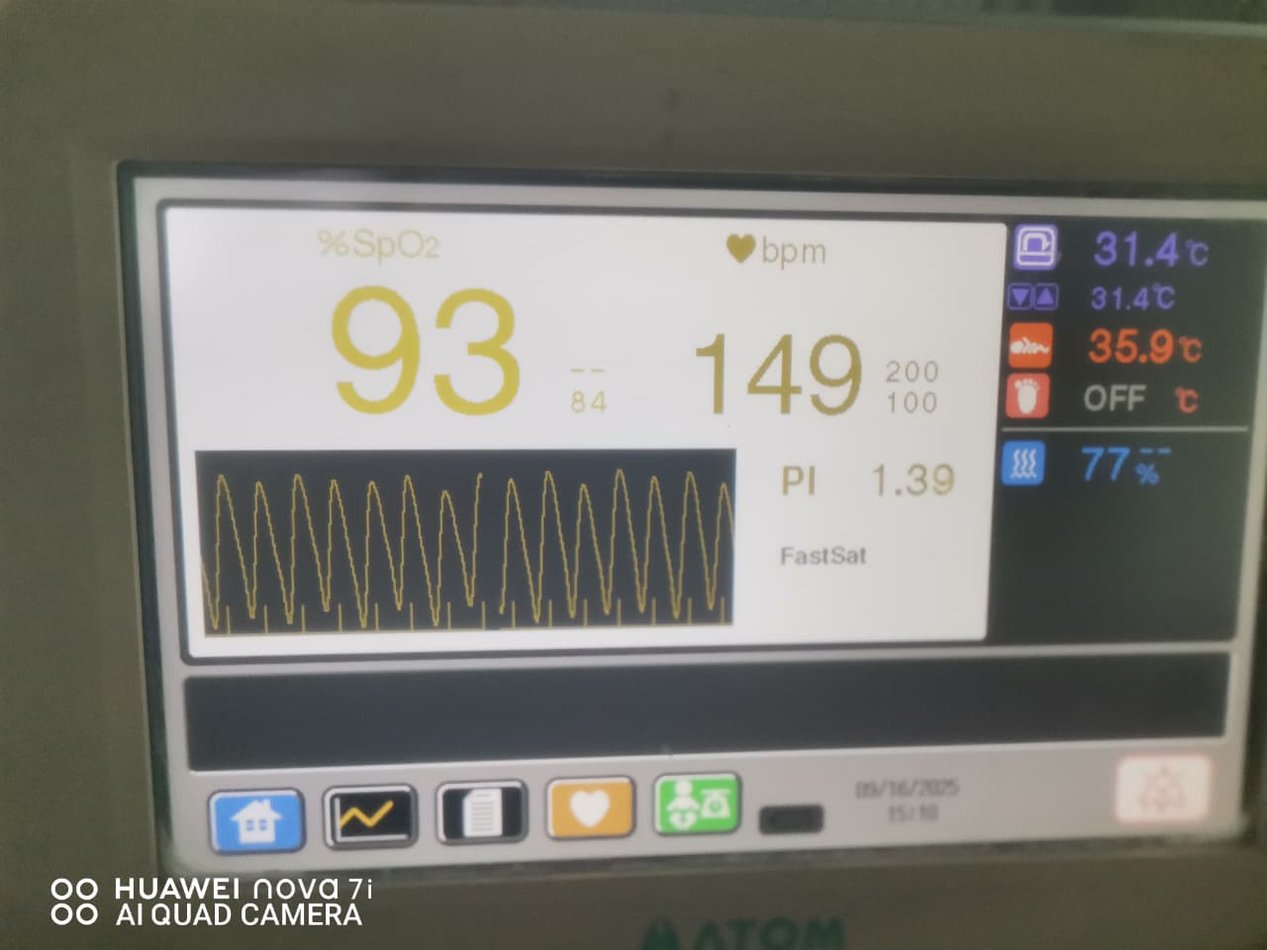air_temp_value: (1072, 211, 1193, 288)
heart_rate_value: (680, 315, 869, 433)
humidity_value: (1066, 439, 1136, 485)
skin_temp_value: (1076, 310, 1177, 379)
spo2_value: (310, 273, 529, 433)
